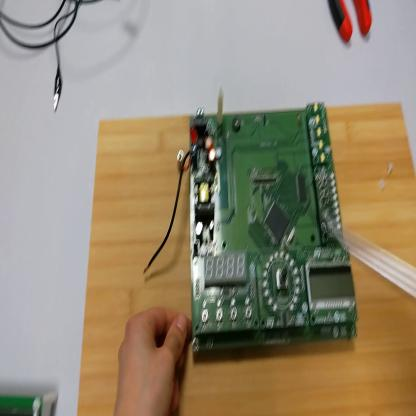hand: (114, 302, 192, 415)
low voltage board: (143, 83, 361, 349)
pliers: (329, 1, 373, 47)
screwdriver-: (308, 215, 415, 297)
working area: (79, 106, 416, 413)
